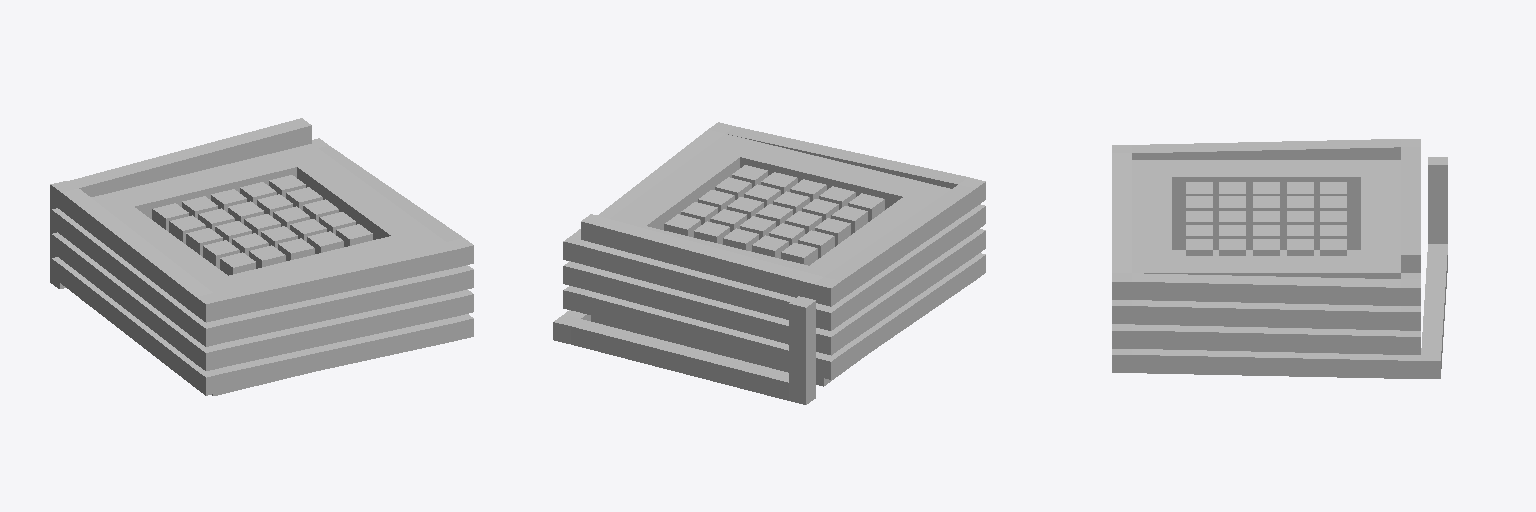
The model's file is nuclear_boiler_end.obj.
3 renders of one model, left to right at view 1: azimuth 30°, elevation 25°; view 2: azimuth 150°, elevation 25°; view 3: azimuth 270°, elevation 25°, orthographic.
Parts seen in each view (by area): view 1: cuboid; view 2: cuboid; view 3: cuboid.
Boxes of the visible parts, box(x1,y1,x2,y2) form: cuboid: box(50, 118, 473, 395); cuboid: box(553, 122, 985, 404); cuboid: box(1112, 139, 1447, 378).
Size of the model in its own units: 2.88 by 1.19 by 3.12.